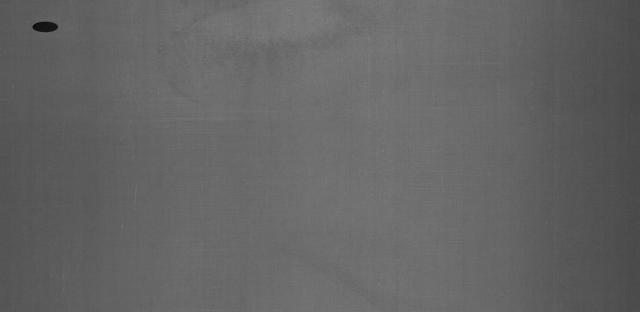punching_hole: (28, 19, 60, 36)
